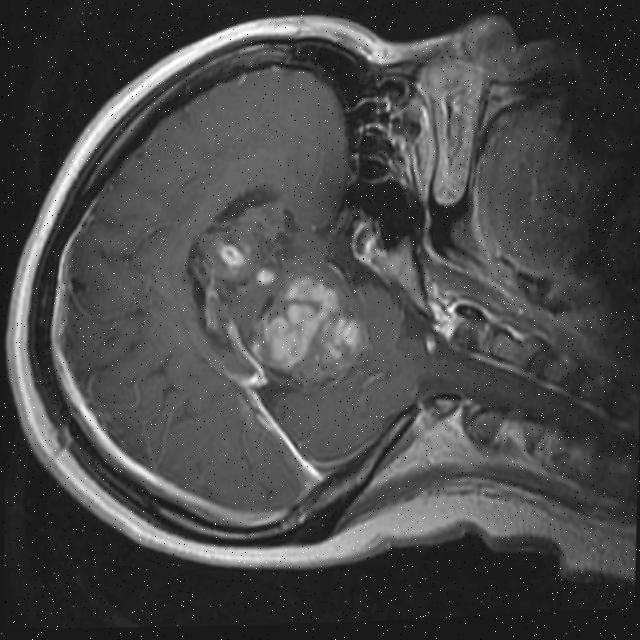Glioma: (250, 261, 368, 387), (218, 241, 245, 268)
Pituitary: (348, 213, 379, 266)
